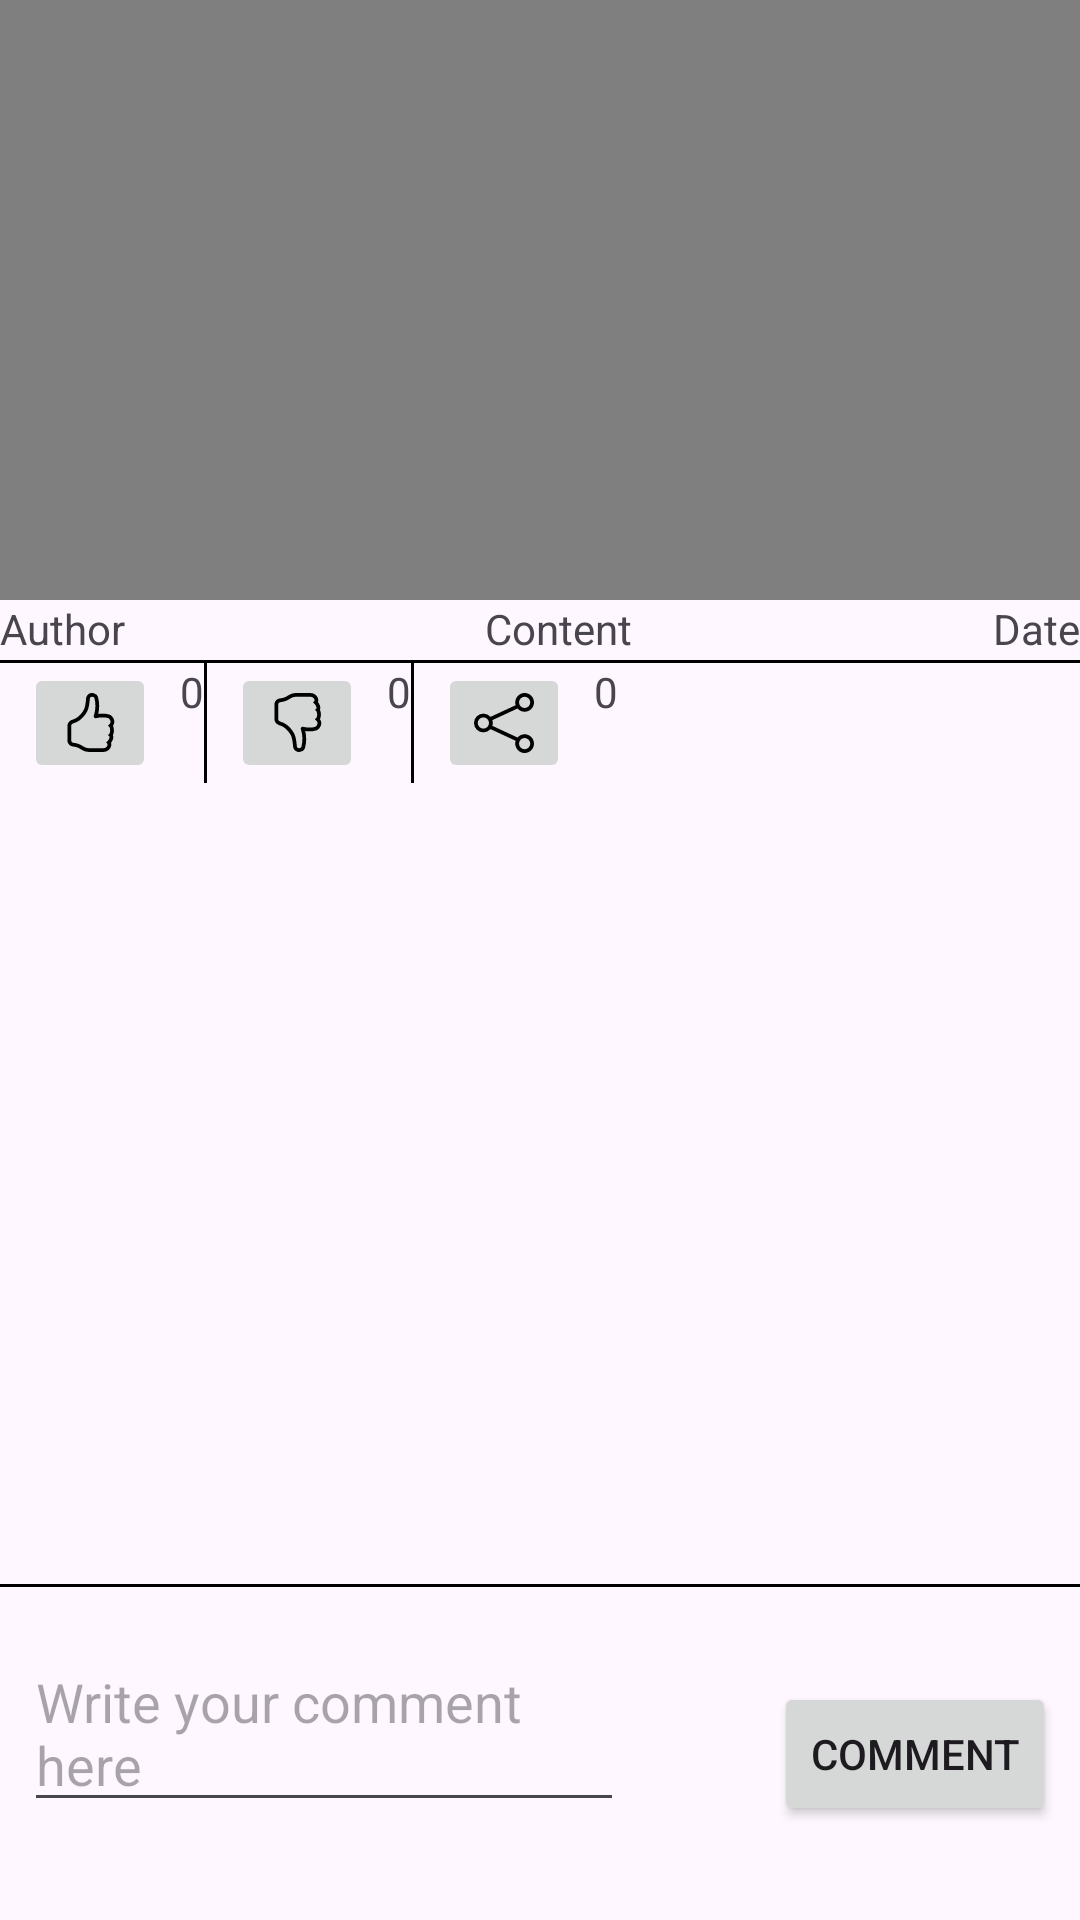

Where to tap for icons on this 1080px×1920px app screen, as (x=x, y=y):
dislikes: (x=297, y=723)
likes: (x=90, y=723)
share: (x=504, y=723)
